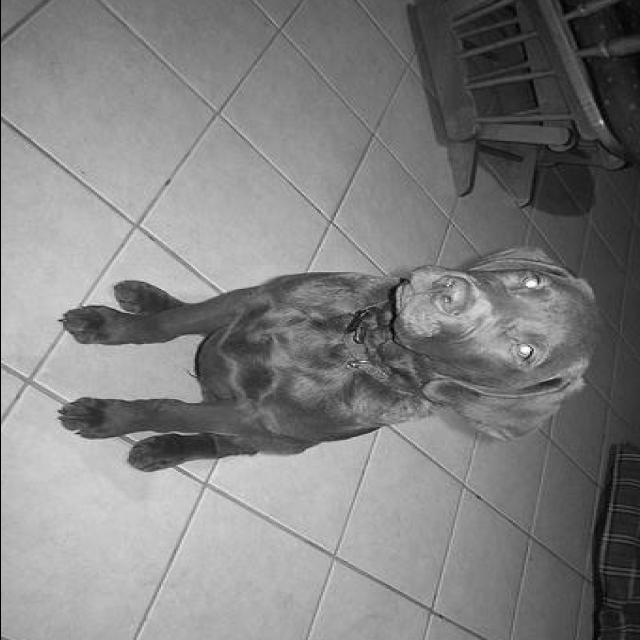sitting: (55, 237, 604, 478)
